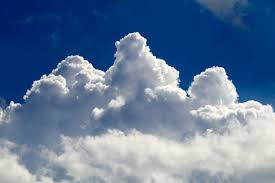Cumulus: (1, 30, 275, 183)
